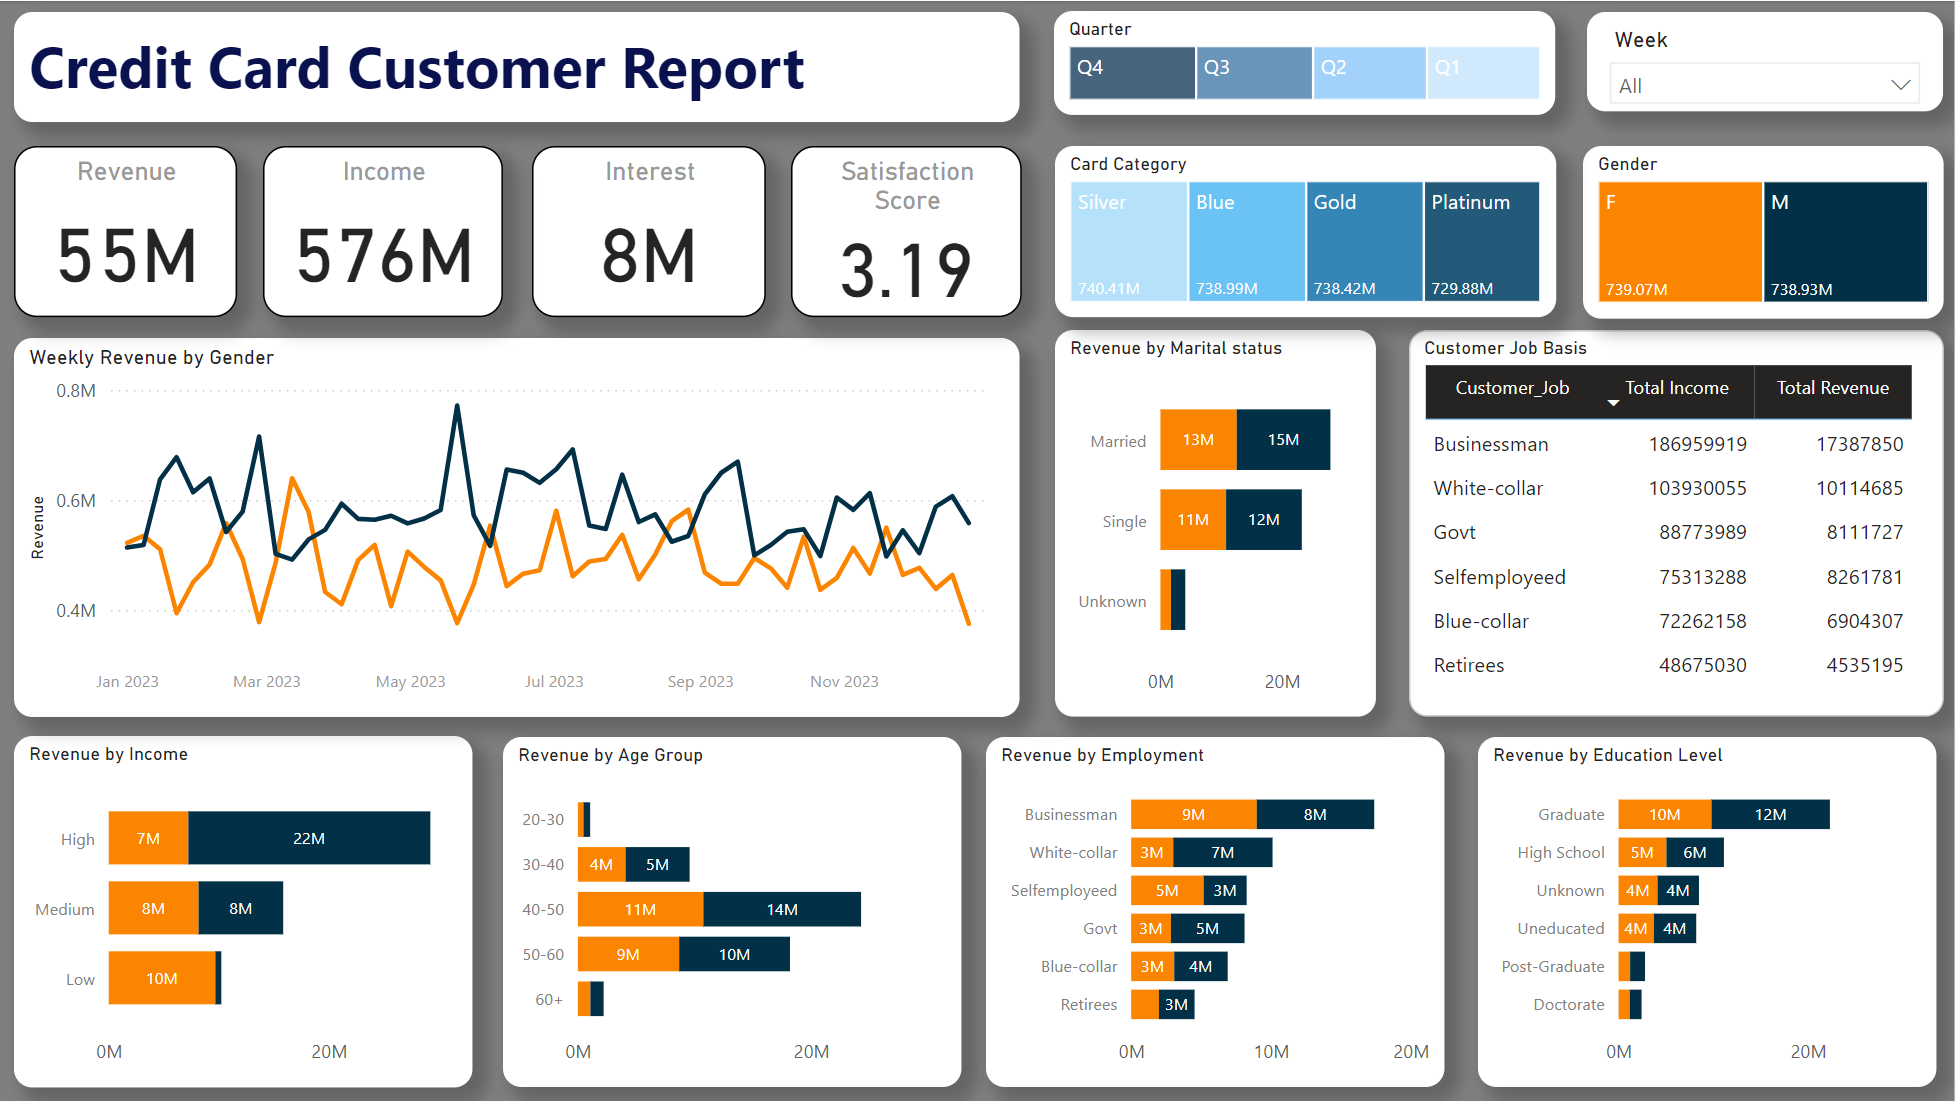

This screenshot's page, from the dashboard's own definition file:
{"tool":"powerbi","page":{"name":"CC Customer Report","canvas":[1280,720],"ordinal":2},"visuals":[{"type":"textbox","box":[10.8,7.4,657.9,72.1],"z":0},{"type":"barChart","title":"Revenue by Income","fields":{"Category":["customer.Income_Group"],"Y":["Sum(credit_card.Revenue)"],"Series":["customer.Gender"]},"box":[10.8,481.3,300,229.8],"z":1000},{"type":"tableEx","title":"Customer Job Basis","fields":{"Values":["customer.Customer_Job","Sum(customer.Income)","Sum(credit_card.Revenue)"]},"box":[923.4,215,349.8,253.4],"z":2000},{"type":"card","title":"Revenue","fields":{"Values":["Sum(credit_card.Revenue)"]},"box":[10.8,94.8,145.6,112.3],"z":3000,"group":"g1"},{"type":"treemap","title":"Quarter","fields":{"Group":["credit_card.Qtr"],"Values":["Avg(customer.Client_Num)"]},"box":[691.1,6.8,328.2,68.1],"z":3000},{"type":"card","title":"Income","fields":{"Values":["Sum(customer.Income)"]},"box":[174,94.7,156.7,112.4],"z":4000,"group":"g1"},{"type":"slicer","fields":{"Values":["credit_card.Week_Start_Date"]},"box":[1040,7.4,233.2,65.4],"z":4000},{"type":"card","title":"Interest","fields":{"Values":["Sum(credit_card.Interest_Earned)"]},"box":[349.2,95,153,111.9],"z":5000},{"type":"card","title":"Satisfaction Score","fields":{"Values":["Avg(customer.Cust_Satisfaction_Score)"]},"box":[519,94.8,150.6,112.3],"z":6000,"group":"g1"},{"type":"lineChart","title":"Weekly Revenue by Gender","fields":{"Y":["Sum(credit_card.Revenue)"],"Series":["customer.Gender"],"Category":["credit_card.Week_Start_Date.Variation.Date Hierarchy.Year","credit_card.Week_Start_Date.Variation.Date Hierarchy.Quarter","credit_card.Week_Start_Date.Variation.Date Hierarchy.Month","credit_card.Week_Start_Date.Variation.Date Hierarchy.Day"]},"box":[10.8,220.4,657.9,248],"z":6000},{"type":"treemap","title":"Gender","fields":{"Group":["customer.Gender"],"Values":["Avg(customer.Client_Num)"]},"box":[1037.3,95,235.9,112.6],"z":7000},{"type":"barChart","title":"Revenue by Marital status","fields":{"Category":["customer.Marital_Status"],"Y":["Sum(credit_card.Revenue)"],"Series":["customer.Gender"]},"box":[691.6,215,210.3,253.4],"z":8000},{"type":"treemap","title":"Card Category","fields":{"Group":["credit_card.Card_Category"],"Values":["Avg(customer.Client_Num)"]},"box":[691.7,94.7,327.6,112.1],"z":9000},{"type":"barChart","title":"Revenue by Age Group","fields":{"Category":["customer.Age_Group"],"Y":["Sum(credit_card.Revenue)"],"Series":["customer.Gender"]},"box":[330.3,481.9,299.9,229.2],"z":10000},{"type":"barChart","title":"Revenue by Employment","fields":{"Category":["customer.Customer_Job"],"Y":["Sum(credit_card.Revenue)"],"Series":["customer.Gender"]},"box":[646.4,481.9,299.9,229.2],"z":11000},{"type":"barChart","title":"Revenue by Education Level","fields":{"Category":["customer.Education_Level"],"Y":["Sum(credit_card.Revenue)"],"Series":["customer.Gender"]},"box":[968.6,481.9,300,229.2],"z":12000},{"type":"group","id":"g1","title":"Group 2","box":[10.8,94.7,658.8,112.4],"z":13000}]}

Visuals, with their boxes in screenshot pixels (x1, y1, x2, y2), scaled from the page's 1280x720 canvas onto the 1955x1101 screenshot:
textbox: (x1=16, y1=11, x2=1021, y2=122)
"Revenue by Income" barChart: (x1=16, y1=736, x2=475, y2=1087)
"Customer Job Basis" tableEx: (x1=1410, y1=329, x2=1945, y2=716)
"Revenue" card: (x1=16, y1=145, x2=239, y2=317)
"Quarter" treemap: (x1=1056, y1=10, x2=1557, y2=115)
"Income" card: (x1=266, y1=145, x2=505, y2=317)
slicer - credit_card.Week_Start_Date: (x1=1588, y1=11, x2=1945, y2=111)
"Interest" card: (x1=533, y1=145, x2=767, y2=316)
"Satisfaction Score" card: (x1=793, y1=145, x2=1023, y2=317)
"Weekly Revenue by Gender" lineChart: (x1=16, y1=337, x2=1021, y2=716)
"Gender" treemap: (x1=1584, y1=145, x2=1945, y2=317)
"Revenue by Marital status" barChart: (x1=1056, y1=329, x2=1378, y2=716)
"Card Category" treemap: (x1=1056, y1=145, x2=1557, y2=316)
"Revenue by Age Group" barChart: (x1=504, y1=737, x2=963, y2=1087)
"Revenue by Employment" barChart: (x1=987, y1=737, x2=1445, y2=1087)
"Revenue by Education Level" barChart: (x1=1479, y1=737, x2=1938, y2=1087)
"Group 2" group: (x1=16, y1=145, x2=1023, y2=317)
